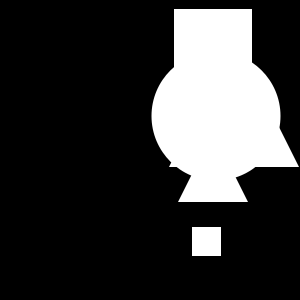circle: (174, 9, 252, 87), (192, 227, 221, 256)
rectangle: (152, 52, 280, 180)
triangle: (169, 37, 299, 167), (178, 132, 248, 202)
